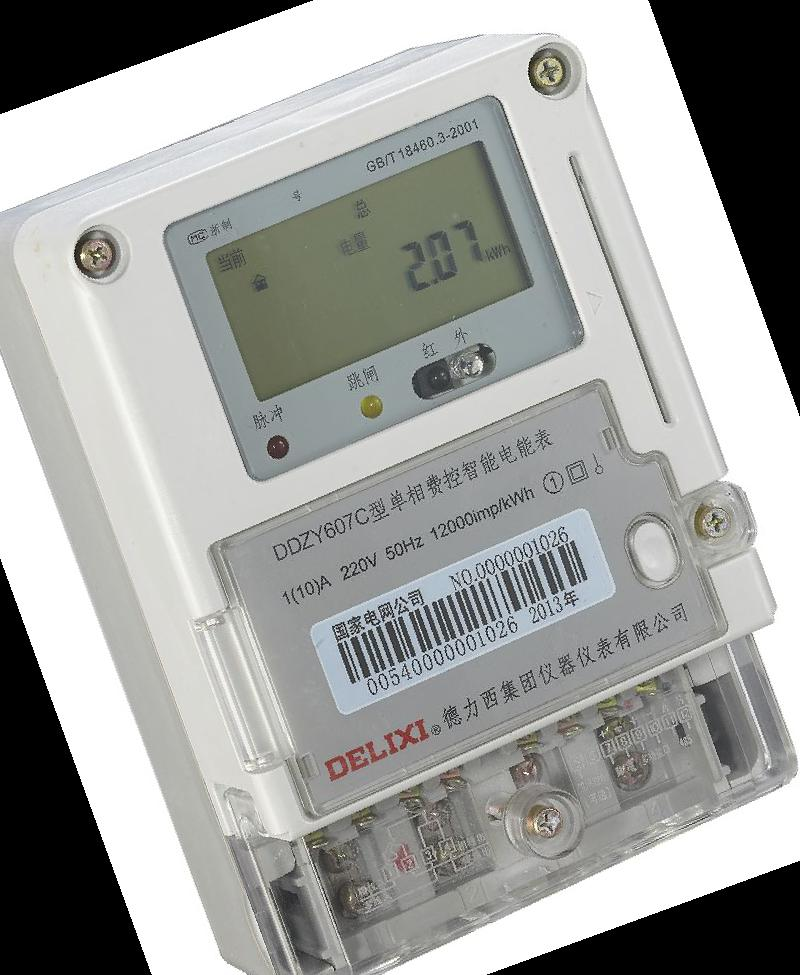digital: (63, 30, 772, 833)
